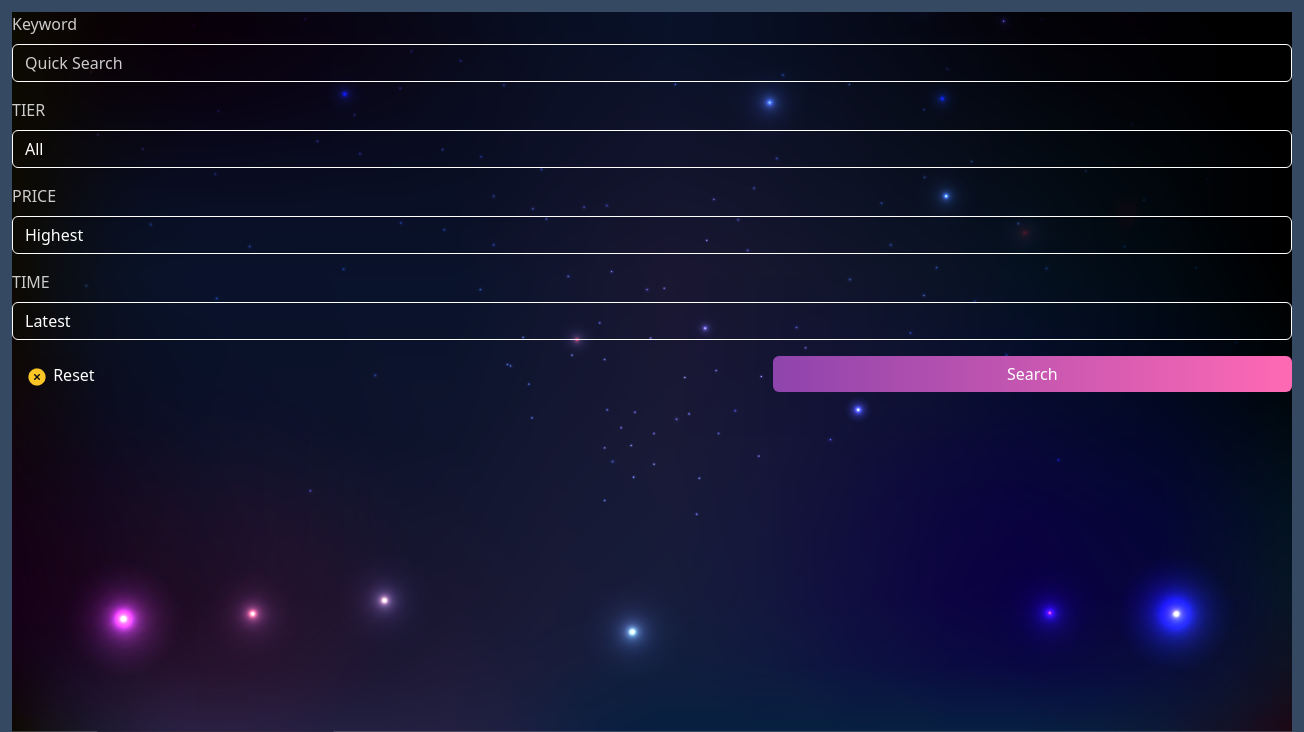
FilterPanel tests › able to reset form element
The image size is (1304, 732).
In the field with test id "keyword": (652, 63) [12, 44, 1292, 82], type "Search"
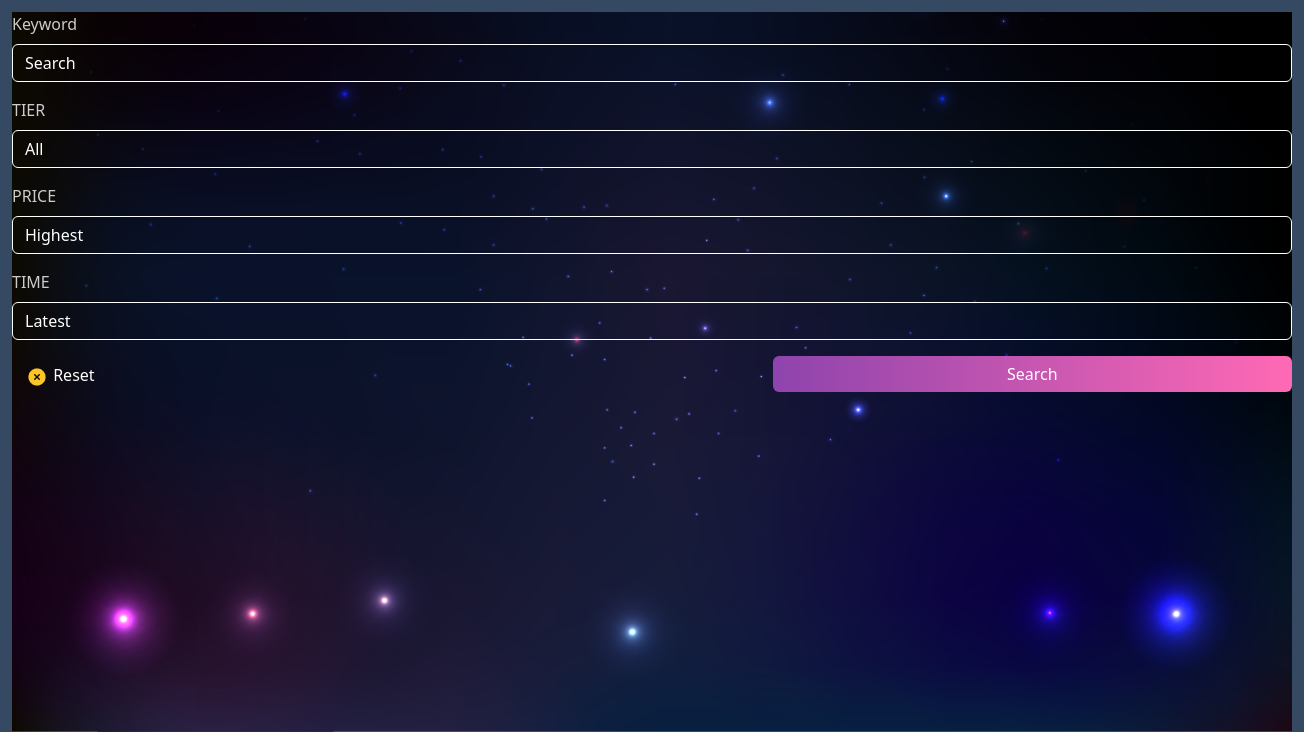
Select "Deluxe" in the dropdown with test id "tier": (652, 149) [12, 130, 1292, 168]
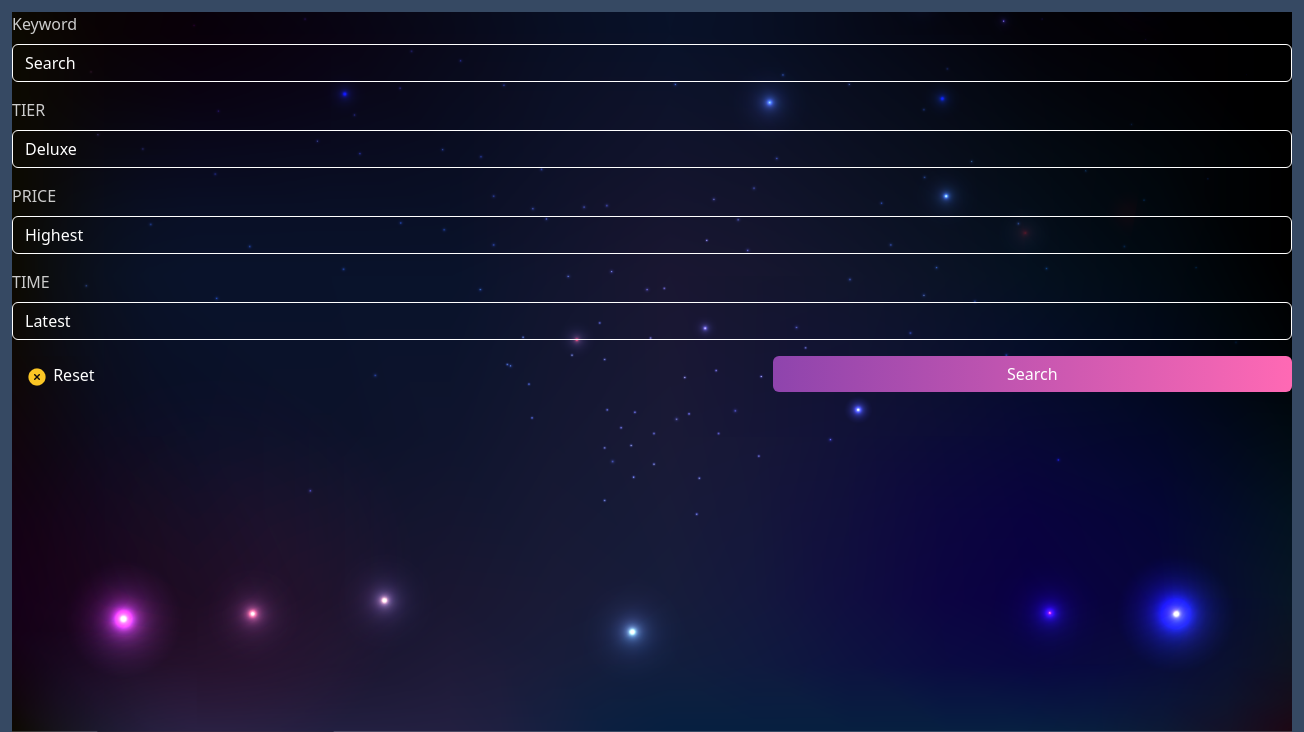
Select "Oldest" in the dropdown with test id "sortByTime": (652, 321) [12, 302, 1292, 340]
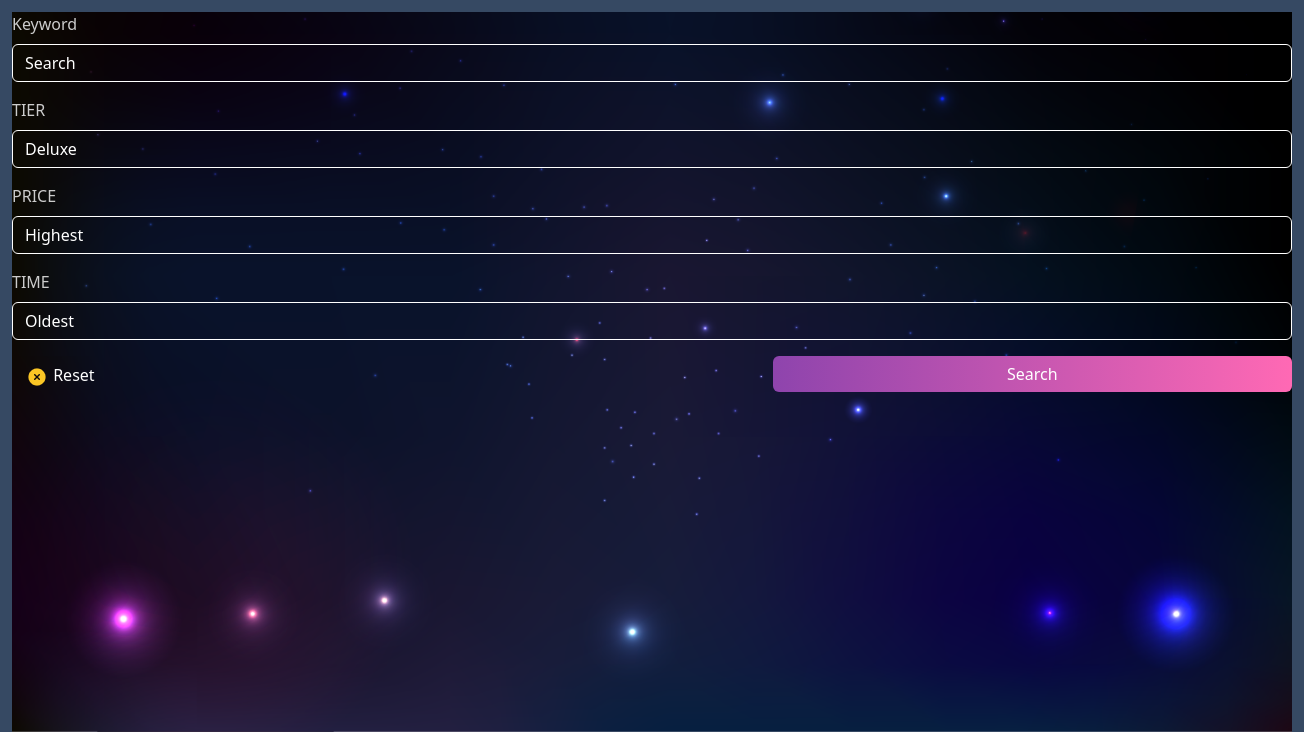
Select "Lowest" in the dropdown with test id "sortByPrice": (652, 235) [12, 216, 1292, 254]
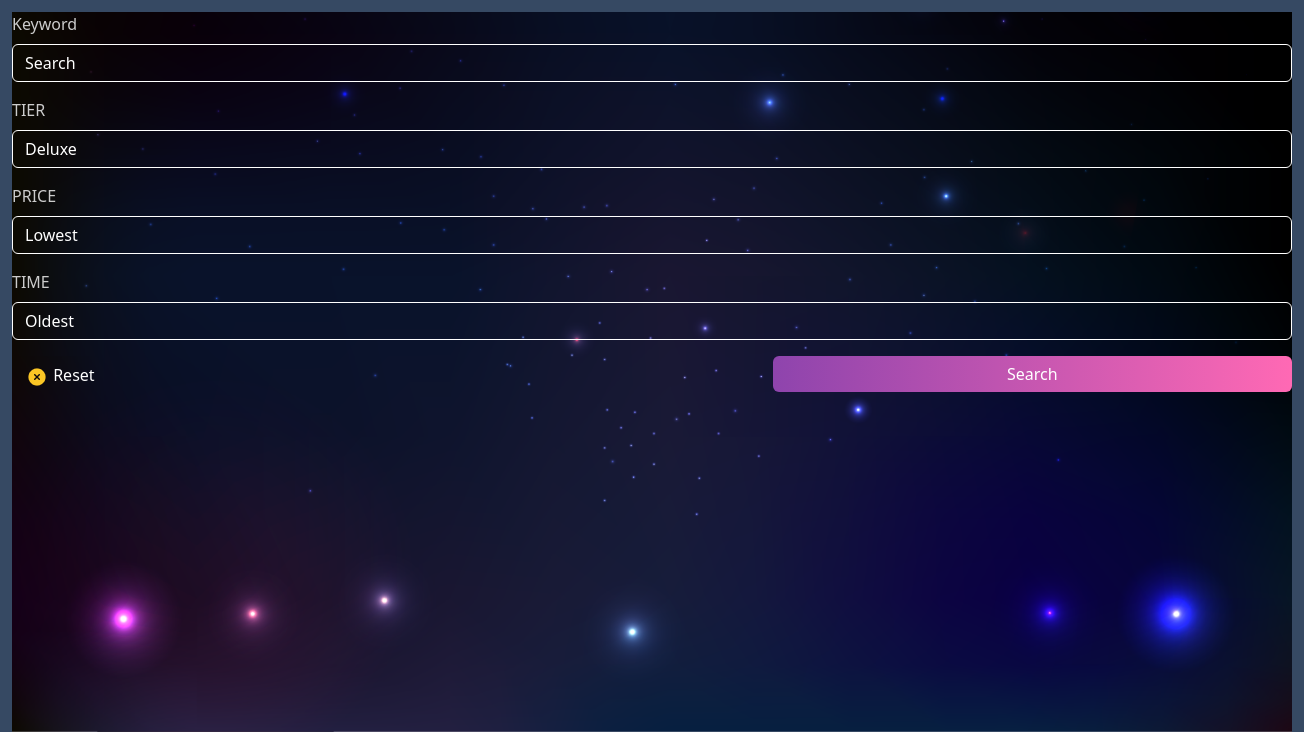
Click the button "Reset": click(60, 376) [12, 356, 108, 396]
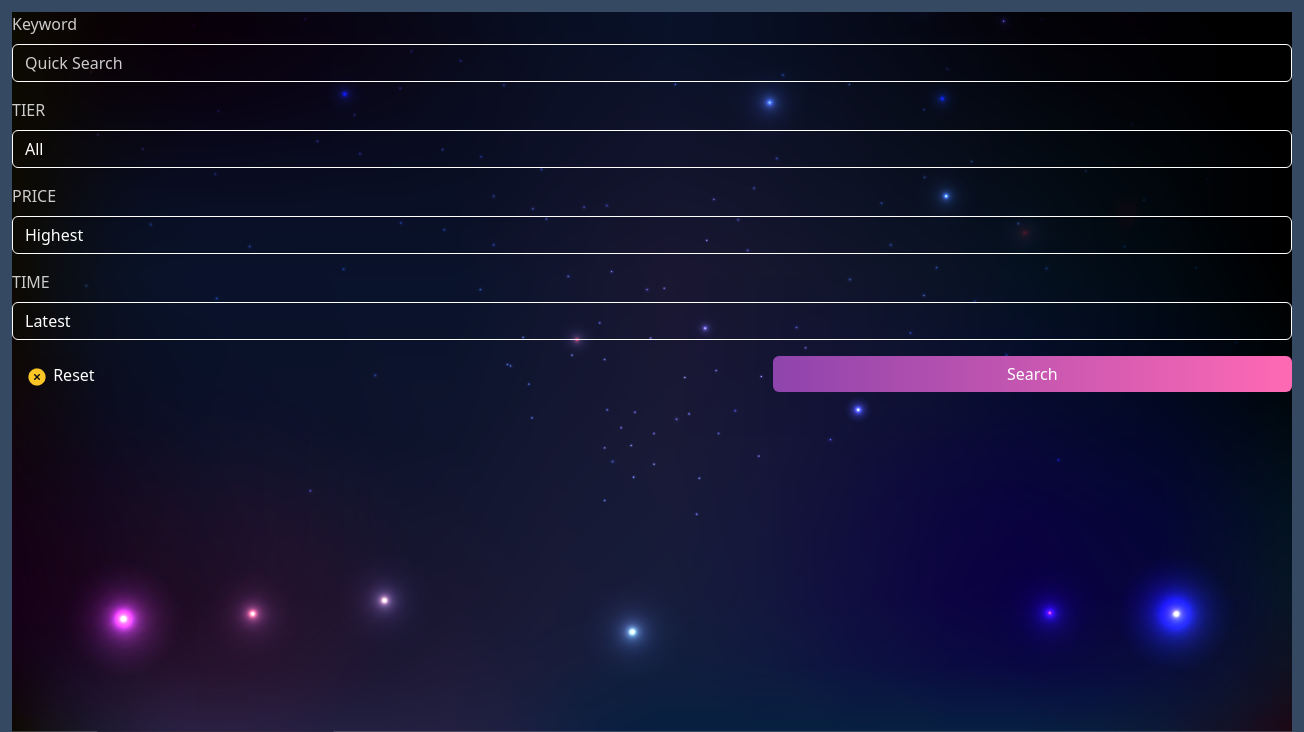
Now the field with test id "keyword" is empty, box [12, 44, 1292, 82]
